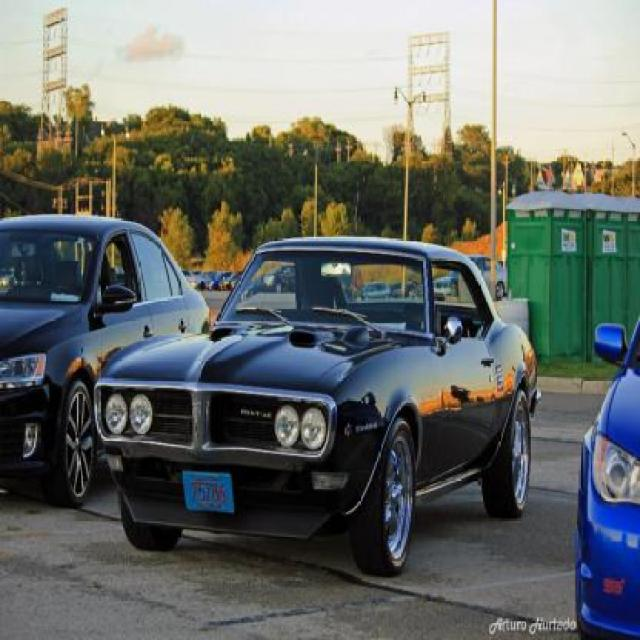License-Plates: (178, 467, 240, 514)
